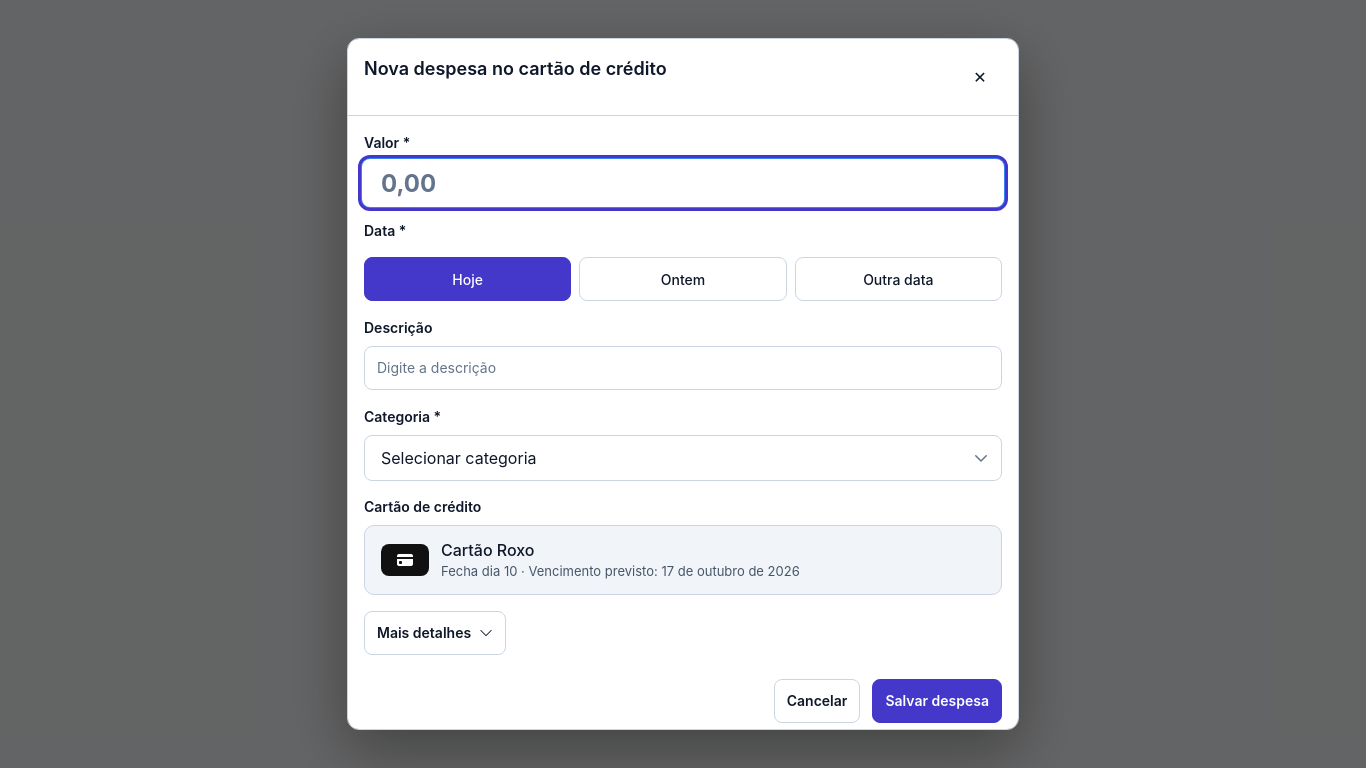
Test: CreditCardExpenseForm › mantém dados e mostra erro quando salvar falha
This screenshot has width=1366, height=768.
In the field labelled "Valor *": (683, 183) [364,161,1002,205], type "150"
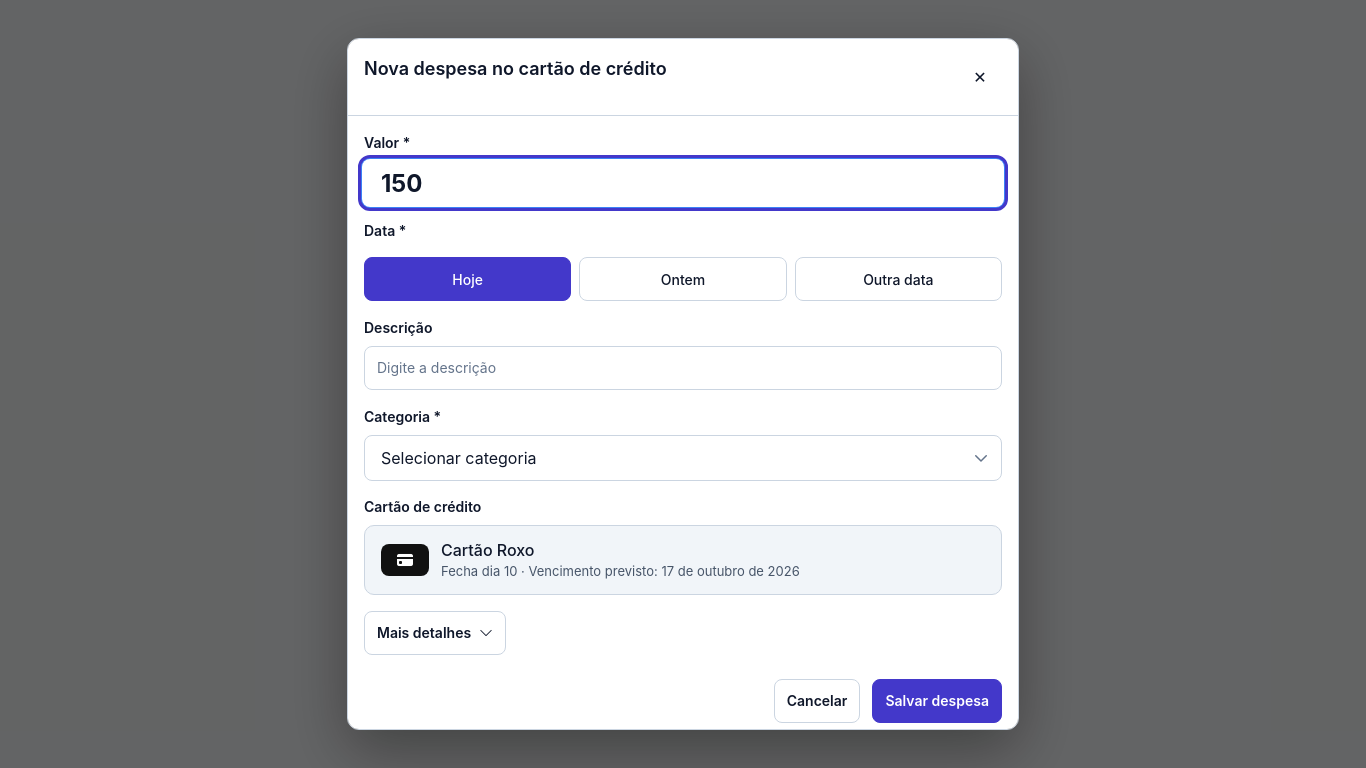
Select "Mercado" in the dropdown labelled "Categoria *": (683, 458) [364,435,1002,481]
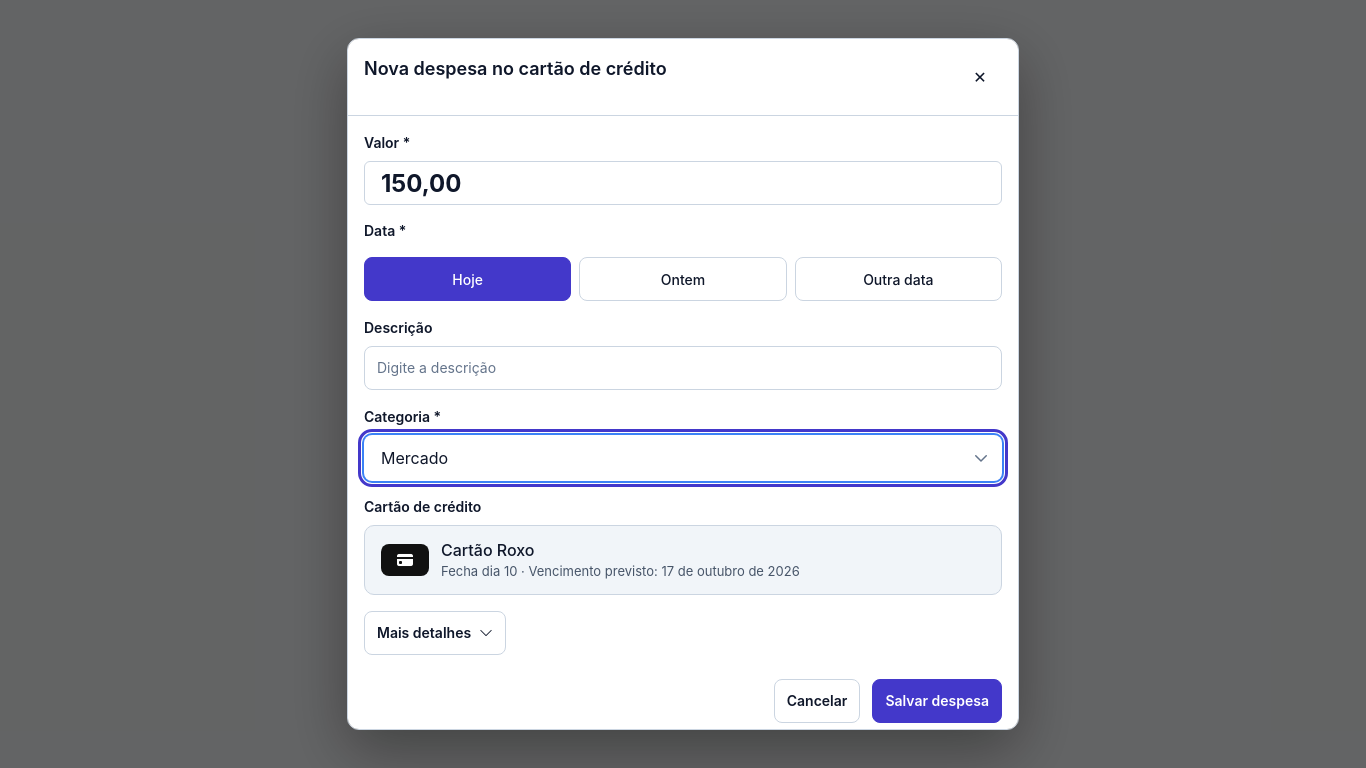
Click the button "Salvar despesa": (937, 701) [872,679,1002,723]
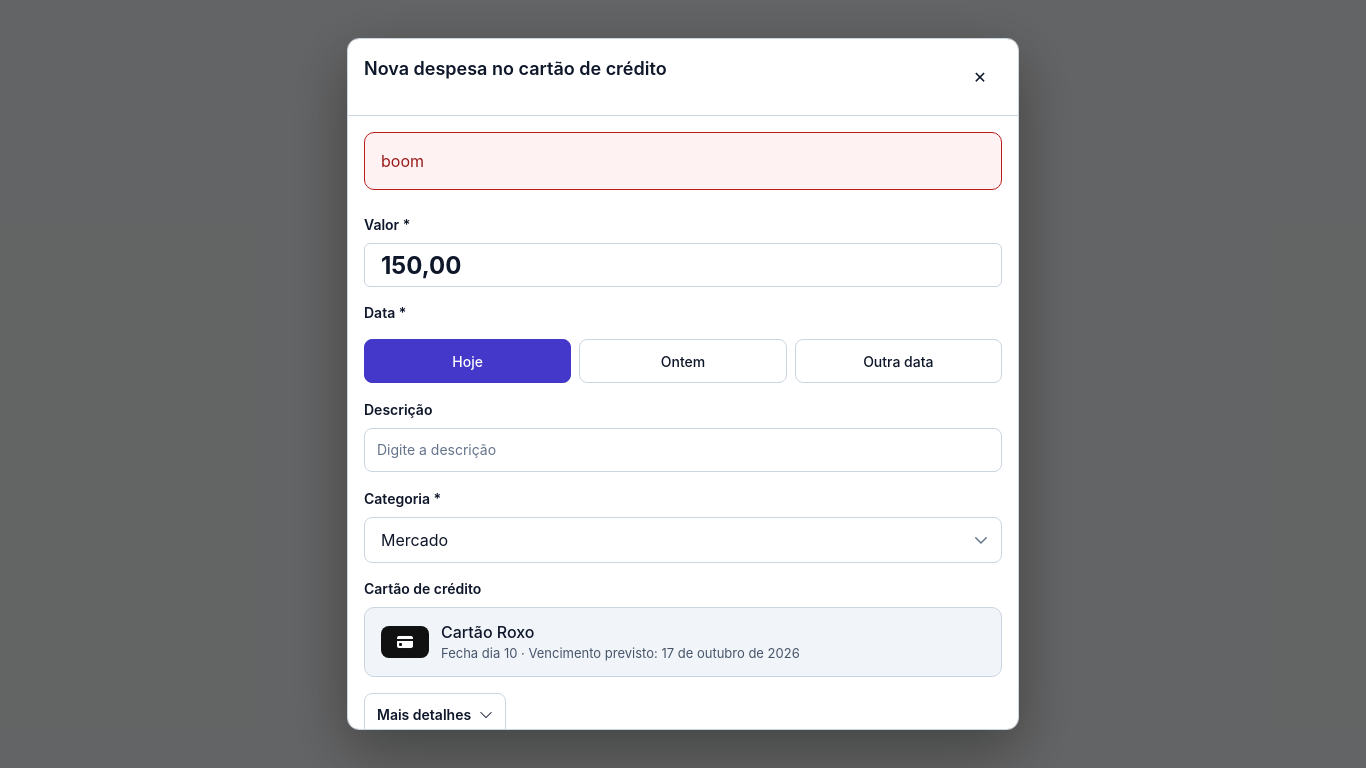
Check: the message reads "boom", box [381,151,424,171]
